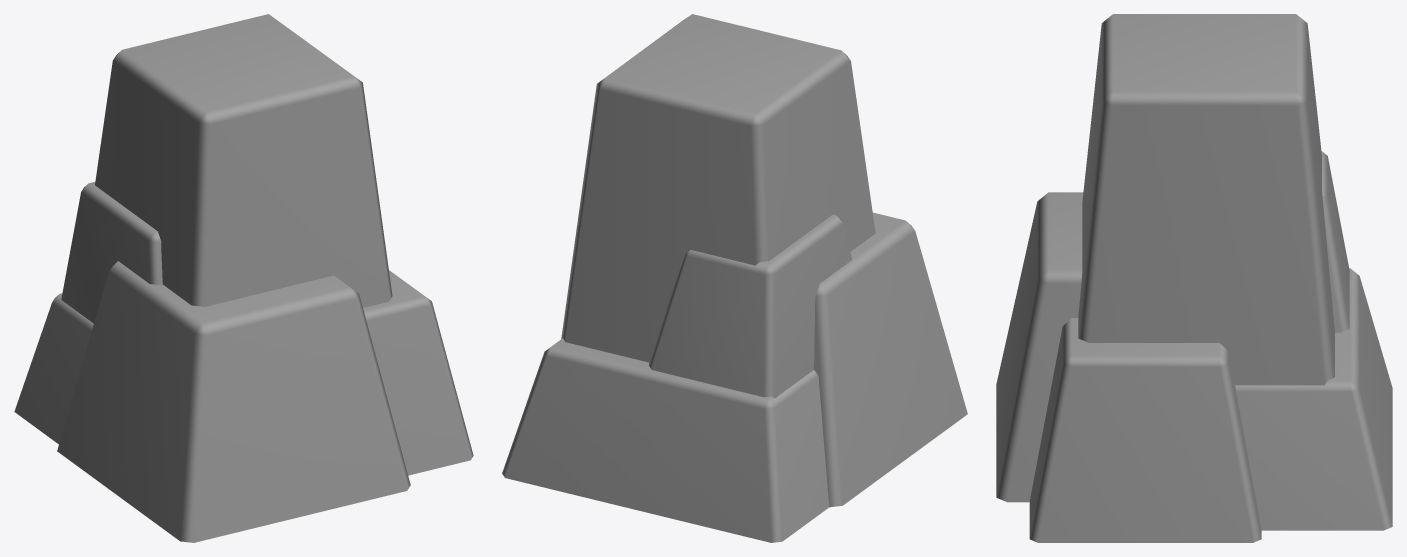
File: Farm_5_Stone_1.glb
The picture shows the model from 3 angles, left to right: view 1: azimuth 30°, elevation 25°; view 2: azimuth 150°, elevation 25°; view 3: azimuth 270°, elevation 25°; orthographic projection. The views are drawn at different scales.
Parts seen in each view (by area): view 1: Farm_5_Stone_1; view 2: Farm_5_Stone_1; view 3: Farm_5_Stone_1.
Boxes of the visible parts, left/top/right/bottom form: Farm_5_Stone_1: left=14, top=14, right=473, bottom=542; Farm_5_Stone_1: left=502, top=14, right=967, bottom=542; Farm_5_Stone_1: left=996, top=14, right=1392, bottom=542.
Size of the model in its own units: 0.8302 by 0.9676 by 0.8558.
1 material, 1 textured.
